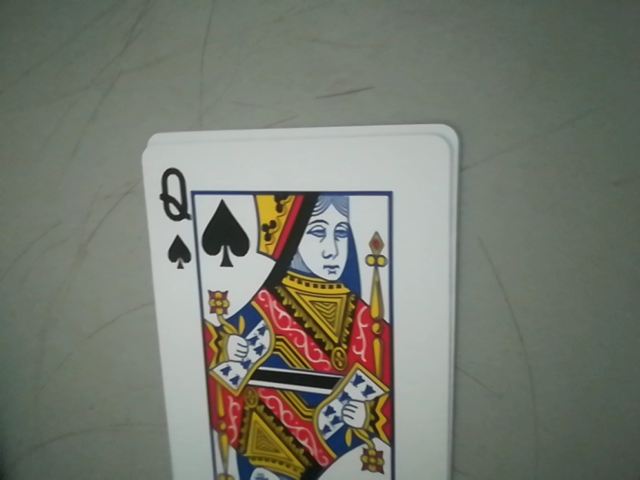ht q: (150, 153, 203, 276)
